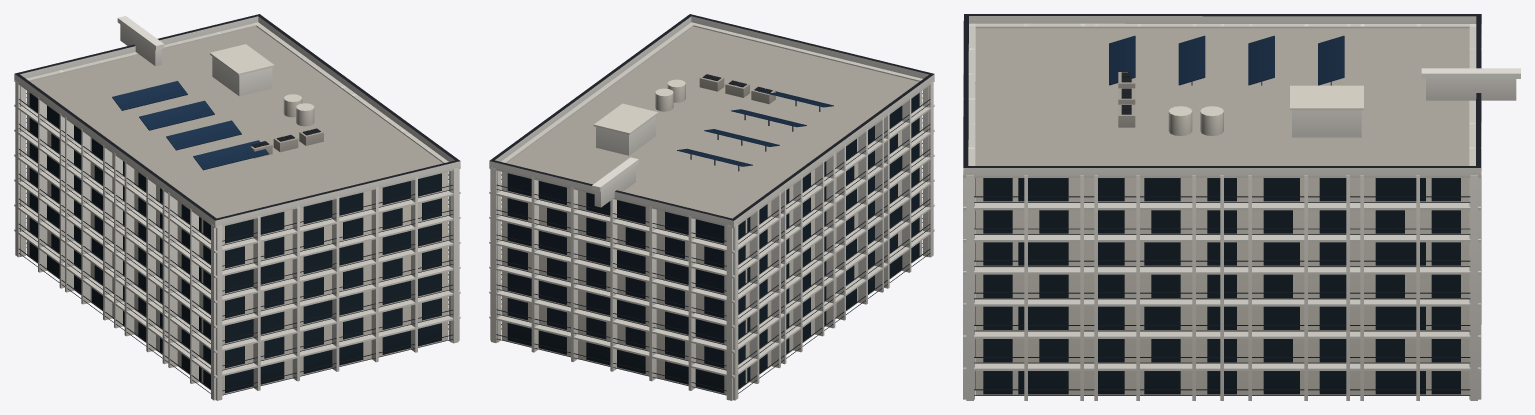
Rendered from aravali_hostel.glb.
The picture shows the model from 3 angles, left to right: view 1: azimuth 30°, elevation 25°; view 2: azimuth 150°, elevation 25°; view 3: azimuth 270°, elevation 25°; orthographic projection. The views are drawn at different scales.
Parts seen in each view (by area): view 1: LOD0_High_StuccoWhite, LOD0_High_RoofSlabConcrete, LOD0_High_RecessedCavityGlass, LOD0_High_StuccoWarmTrim, LOD0_High_DarkAnodizedSteel, LOD0_High_SolarPV, LOD1_Medium_RecessedCavityGlass, LOD1_Medium_StuccoWhite; view 2: LOD0_High_StuccoWhite, LOD0_High_RoofSlabConcrete, LOD0_High_RecessedCavityGlass, LOD0_High_StuccoWarmTrim, LOD0_High_DarkAnodizedSteel, LOD1_Medium_RecessedCavityGlass, LOD1_Medium_StuccoWhite, LOD0_High_SolarPV; view 3: LOD0_High_RoofSlabConcrete, LOD0_High_StuccoWhite, LOD0_High_RecessedCavityGlass, LOD0_High_StuccoWarmTrim, LOD0_High_DarkAnodizedSteel, LOD1_Medium_RecessedCavityGlass, LOD0_High_SolarPV, LOD1_Medium_StuccoWhite.
Boxes of the visible parts, bbox=[...] form: LOD0_High_StuccoWhite: bbox=[14, 16, 460, 400]; LOD0_High_RoofSlabConcrete: bbox=[30, 26, 442, 218]; LOD0_High_RecessedCavityGlass: bbox=[29, 93, 441, 393]; LOD0_High_StuccoWarmTrim: bbox=[27, 44, 447, 394]; LOD0_High_DarkAnodizedSteel: bbox=[15, 14, 459, 395]; LOD0_High_SolarPV: bbox=[112, 81, 268, 170]; LOD1_Medium_RecessedCavityGlass: bbox=[47, 105, 422, 388]; LOD1_Medium_StuccoWhite: bbox=[65, 59, 405, 364]; LOD0_High_StuccoWhite: bbox=[489, 16, 934, 400]; LOD0_High_RoofSlabConcrete: bbox=[507, 26, 918, 218]; LOD0_High_RecessedCavityGlass: bbox=[507, 93, 919, 393]; LOD0_High_StuccoWarmTrim: bbox=[501, 79, 922, 394]; LOD0_High_DarkAnodizedSteel: bbox=[489, 14, 933, 395]; LOD1_Medium_RecessedCavityGlass: bbox=[527, 105, 902, 388]; LOD1_Medium_StuccoWhite: bbox=[781, 117, 883, 364]; LOD0_High_SolarPV: bbox=[677, 90, 833, 166]; LOD0_High_RoofSlabConcrete: bbox=[975, 28, 1469, 165]; LOD0_High_StuccoWhite: bbox=[963, 16, 1520, 400]; LOD0_High_RecessedCavityGlass: bbox=[975, 178, 1460, 394]; LOD0_High_StuccoWarmTrim: bbox=[975, 85, 1469, 395]; LOD0_High_DarkAnodizedSteel: bbox=[963, 14, 1481, 395]; LOD1_Medium_RecessedCavityGlass: bbox=[1018, 178, 1425, 394]; LOD0_High_SolarPV: bbox=[1109, 35, 1344, 85]; LOD1_Medium_StuccoWhite: bbox=[1094, 23, 1350, 400].
Bounding box in the file's own units: 32.35 × 24.97 × 49.41.
